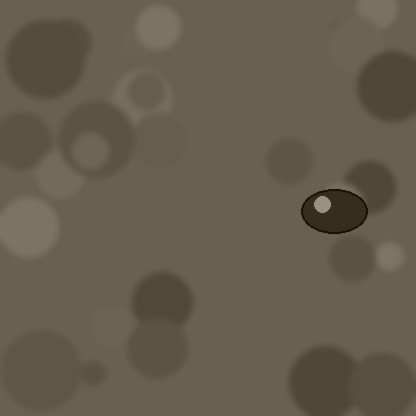gota: (301, 191, 367, 237)
